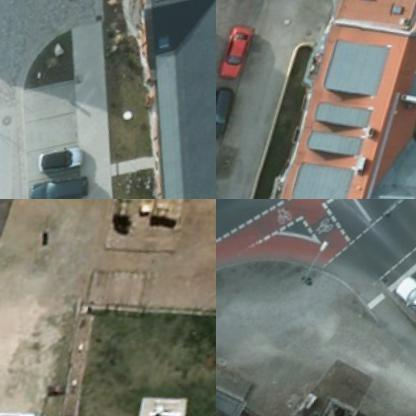car: (36, 142, 90, 182), (217, 28, 254, 84), (33, 173, 94, 198), (391, 278, 415, 338), (216, 91, 238, 148)
